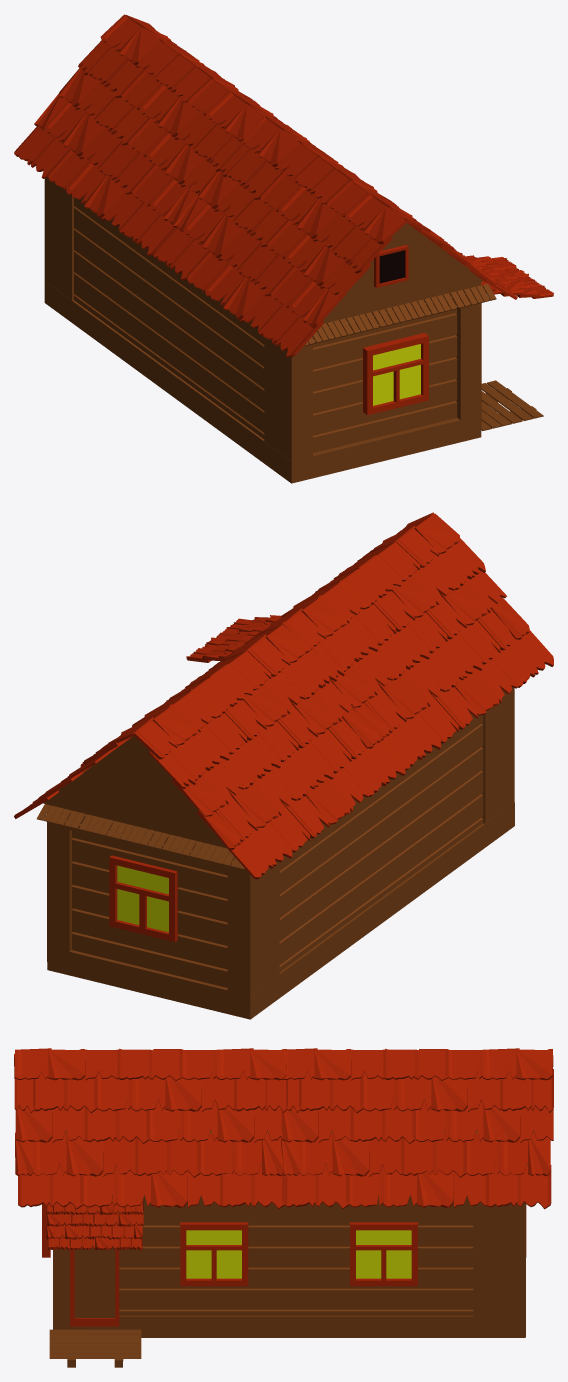
File: izba3.fbx
3 views of the same model, one above another, from view 1: azimuth 30°, elevation 25°; view 2: azimuth 150°, elevation 25°; view 3: azimuth 270°, elevation 25° (orthographic). The views are drawn at different scales.
Parts seen in each view (by area): view 1: Grid.073, Cube.001, Grid.013, Grid.003, Grid.006; view 2: Grid.073, Cube.001, Grid.013, Grid.014; view 3: Grid.073, Cube.001, Grid.013, Grid.005, Grid.011.
Part boxes in pixels (<box>): Grid.073: <box>14,14,553,357</box>; Cube.001: <box>44,178,543,483</box>; Grid.013: <box>363,245,428,415</box>; Grid.003: <box>373,344,420,405</box>; Grid.006: <box>379,250,404,283</box>; Grid.073: <box>14,512,553,879</box>; Cube.001: <box>36,687,514,1019</box>; Grid.013: <box>109,855,178,941</box>; Grid.014: <box>117,865,168,932</box>; Grid.073: <box>14,1048,553,1250</box>; Cube.001: <box>49,1099,534,1367</box>; Grid.013: <box>42,1203,526,1326</box>; Grid.005: <box>186,1230,241,1278</box>; Grid.011: <box>356,1230,411,1278</box>.
Size of the model in its own units: 2666 by 2312 by 4617.
